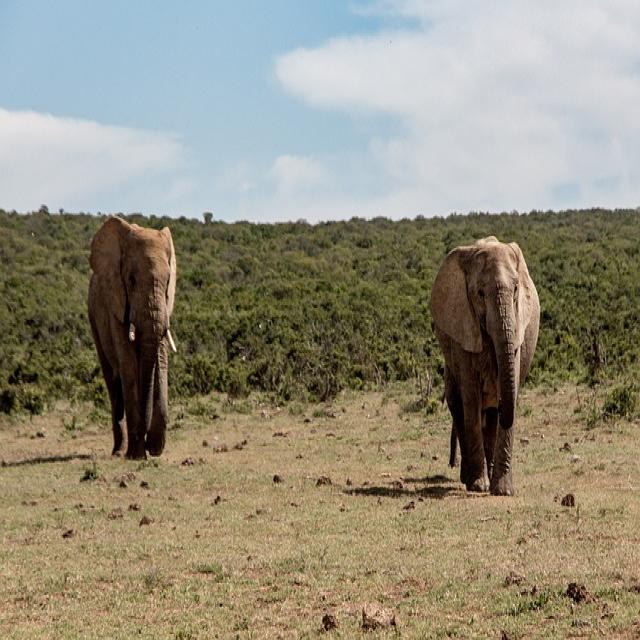FIL: (426, 232, 539, 499), (81, 213, 187, 458)
